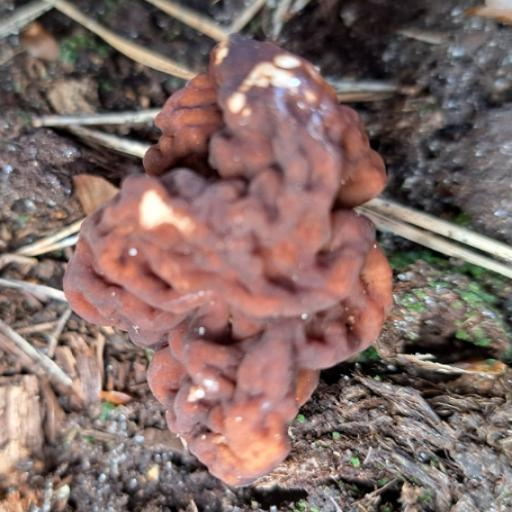mushroom: (24, 18, 472, 485)
